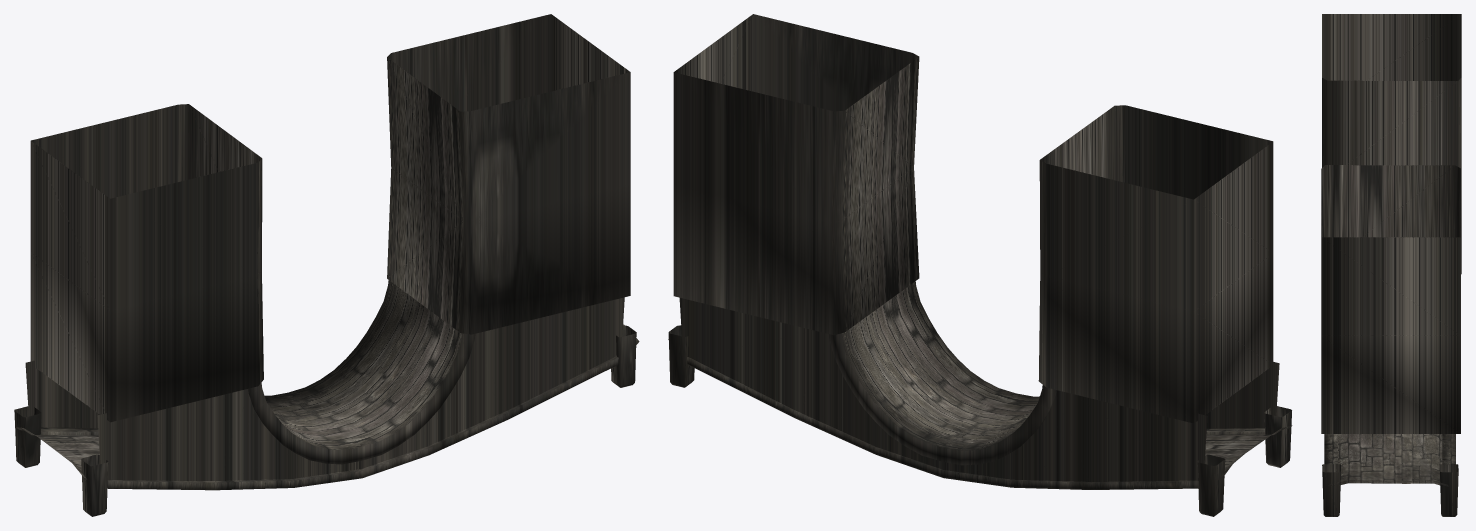
The model's file is bridge.FBX.
3 renders of one model, left to right at view 1: azimuth 30°, elevation 25°; view 2: azimuth 150°, elevation 25°; view 3: azimuth 270°, elevation 25°, orthographic. The views are drawn at different scales.
Parts seen in each view (by area): view 1: Bridge_01; view 2: Bridge_01; view 3: Bridge_01.
Boxes of the visible parts, x1,y1,x2,y2 form: Bridge_01: (14,14,639,516); Bridge_01: (668,14,1292,516); Bridge_01: (1321,14,1461,516).
Bounding box in the file's own units: 11.74 × 6.93 × 2.92.
1 material, 1 textured.
